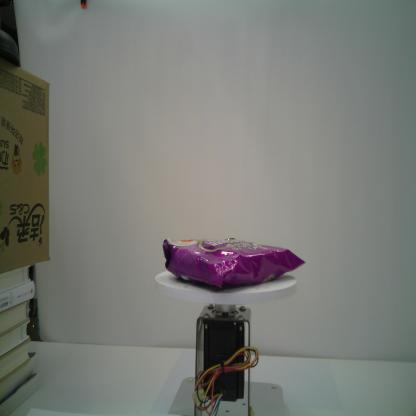Instant Noodles: (162, 237, 307, 289)
